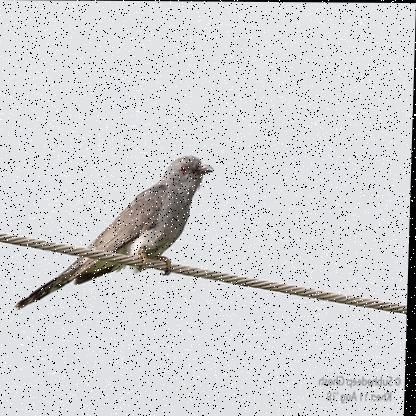Burung: (17, 154, 216, 309)
